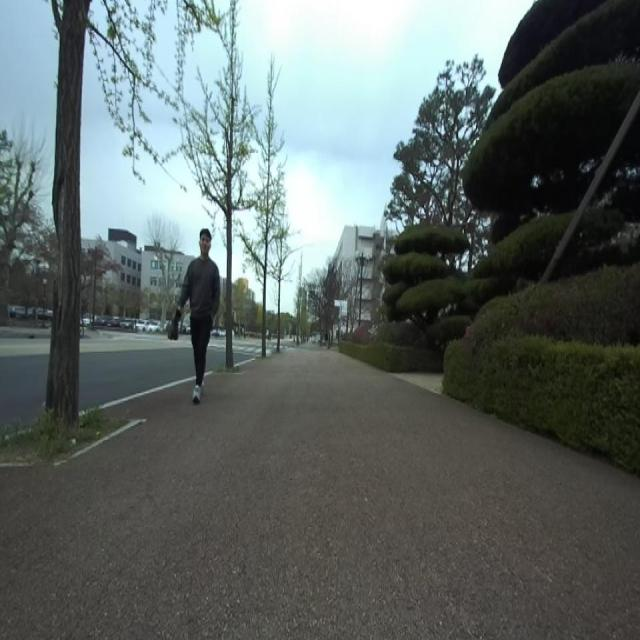sidewalk: (0, 344, 640, 639)
